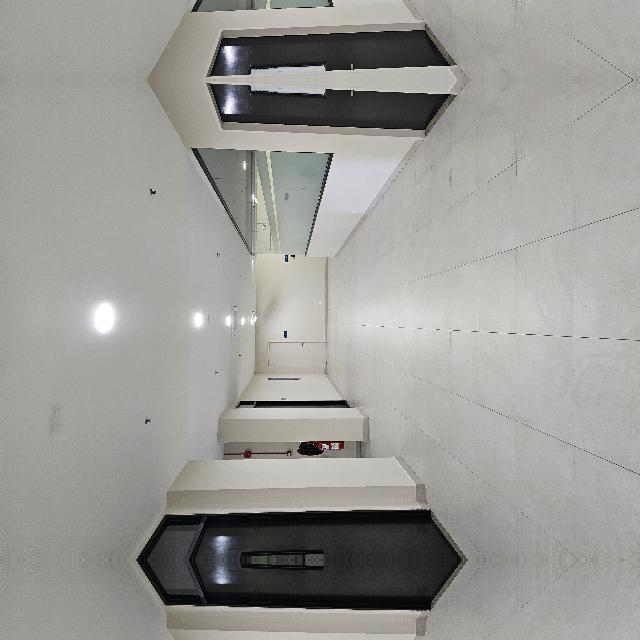door: (1, 210, 58, 552), (420, 282, 478, 550), (1, 567, 58, 640), (420, 569, 477, 640), (190, 344, 222, 411)
